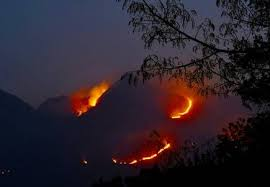fire: (70, 75, 111, 116), (170, 93, 193, 119)
smoke: (56, 39, 124, 71)
